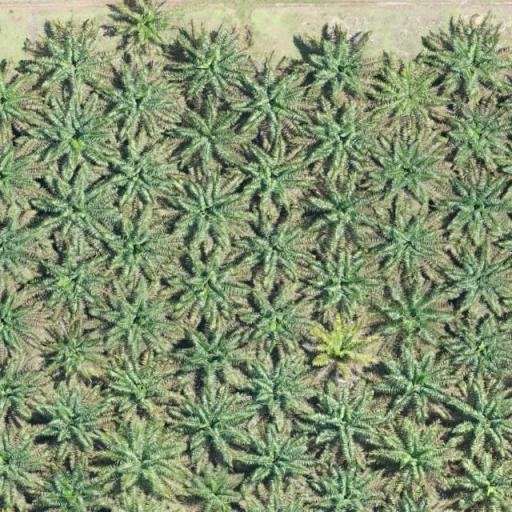Ganoderma: (317, 327, 367, 370)
